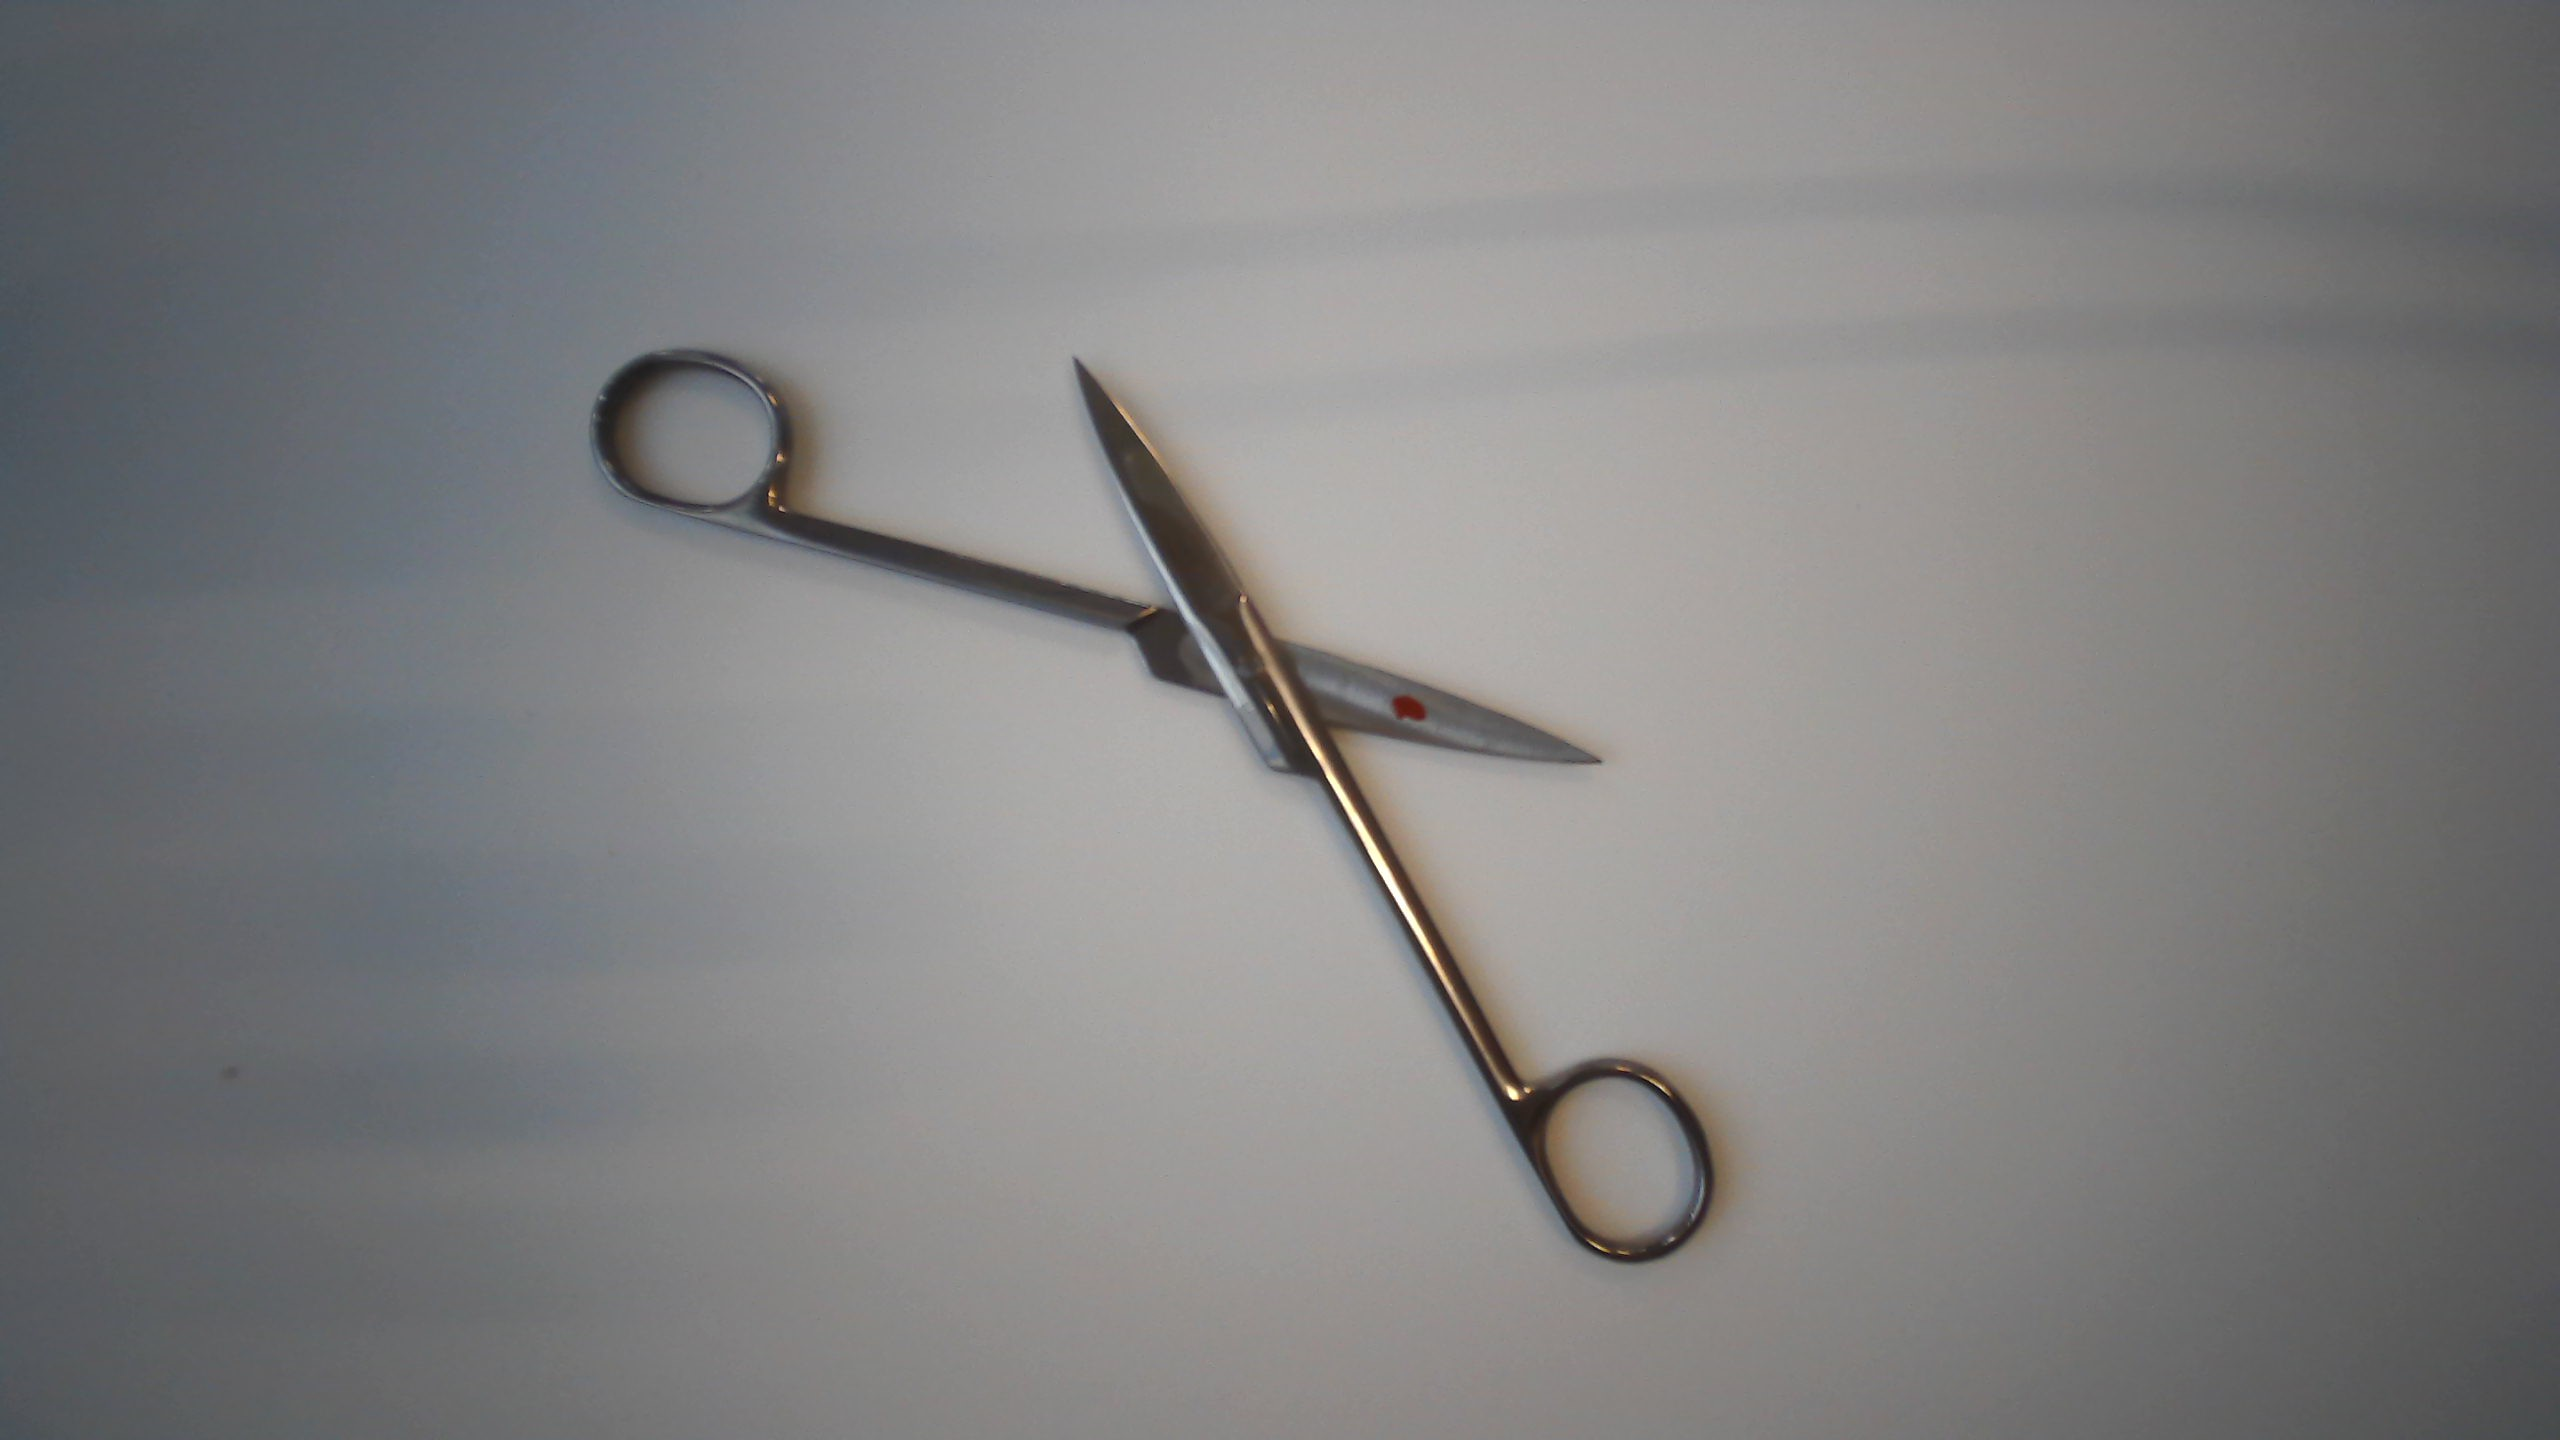Stain: (1384, 689, 1440, 730)
